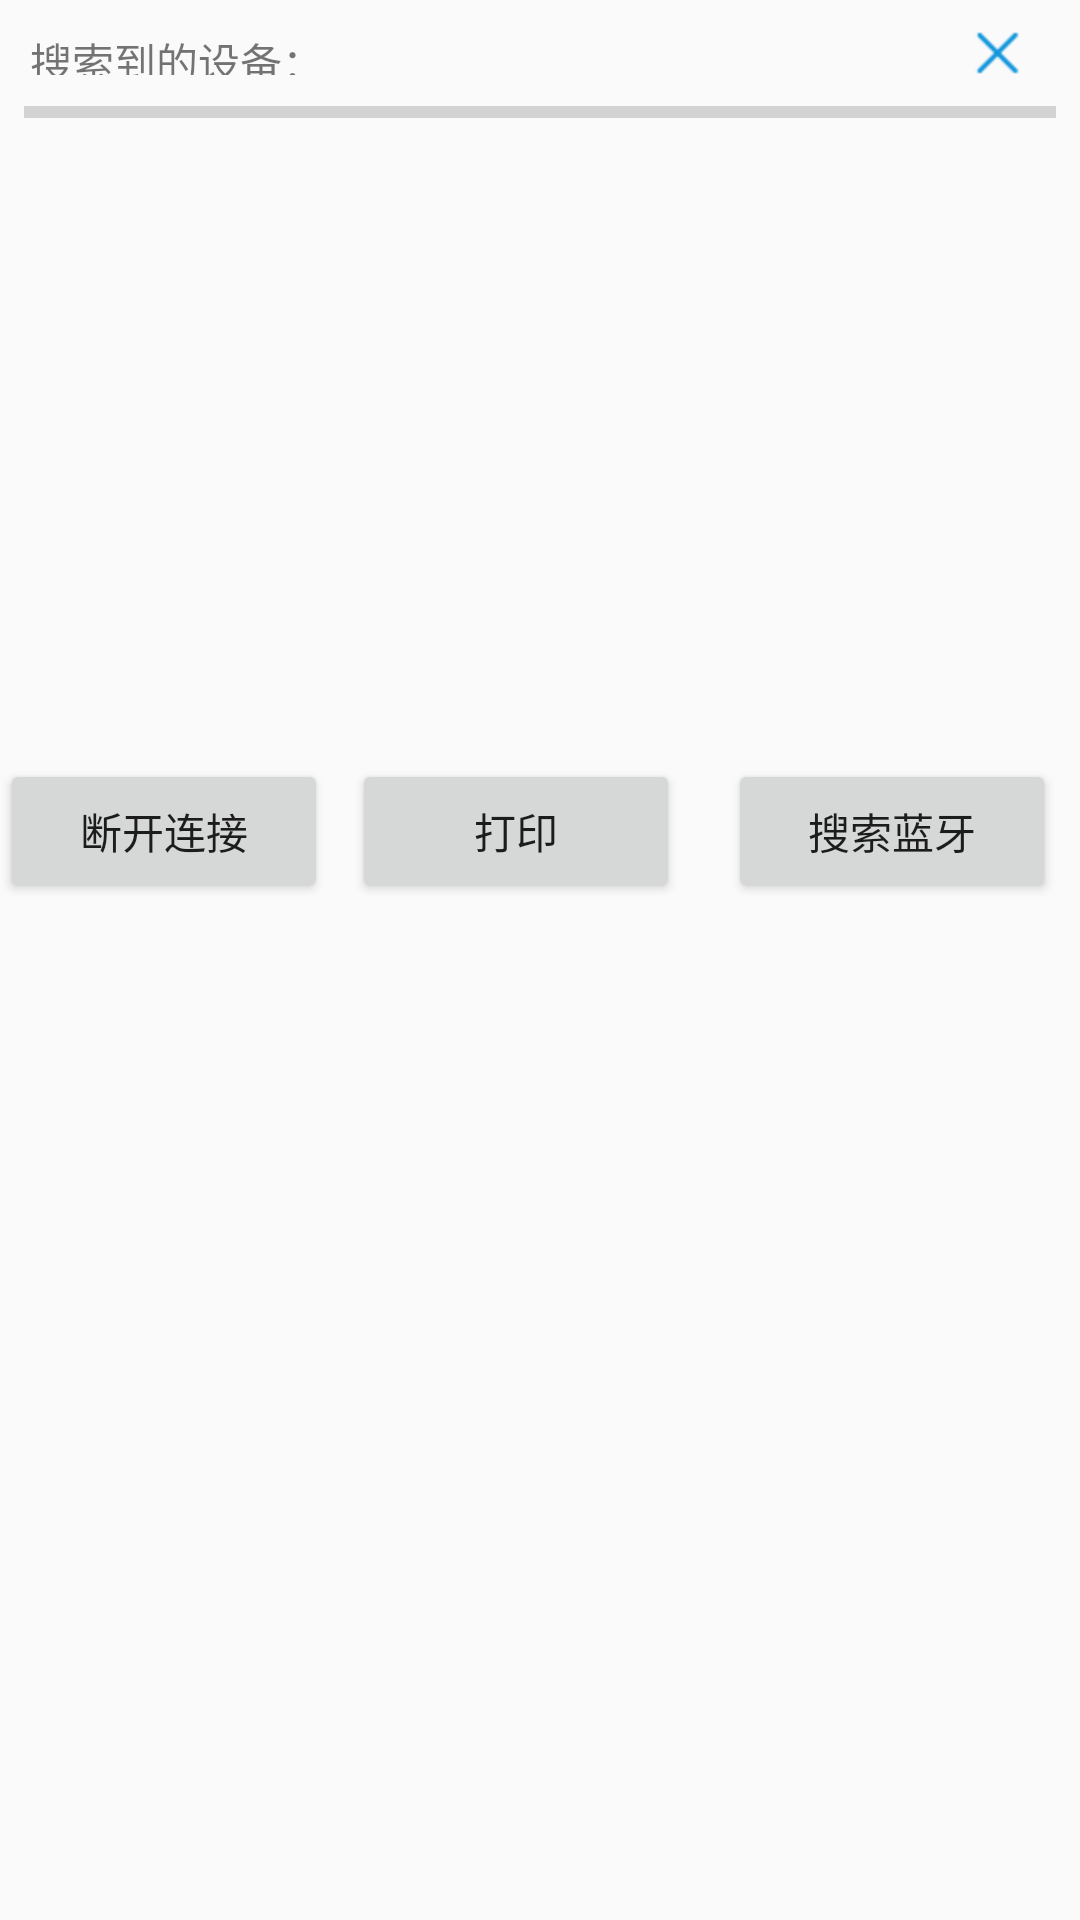

Point at icon controls on the screen. Image size 1080px x 1920px, points as [x,y].
print close: [997,53]
